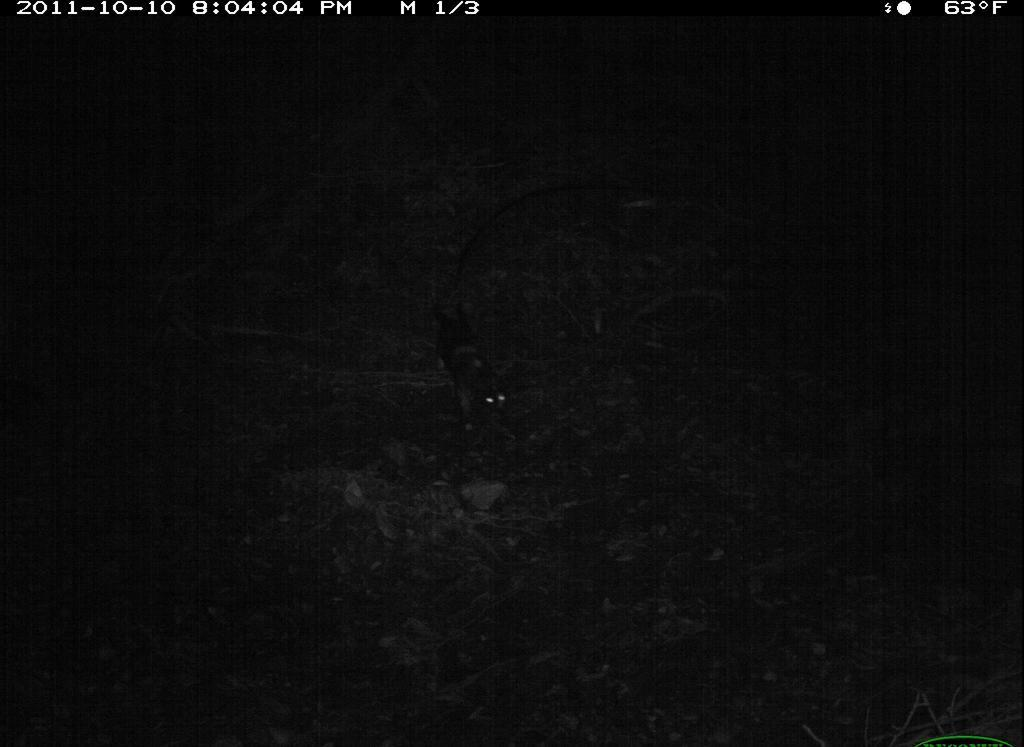cat: (429, 309, 519, 445)
